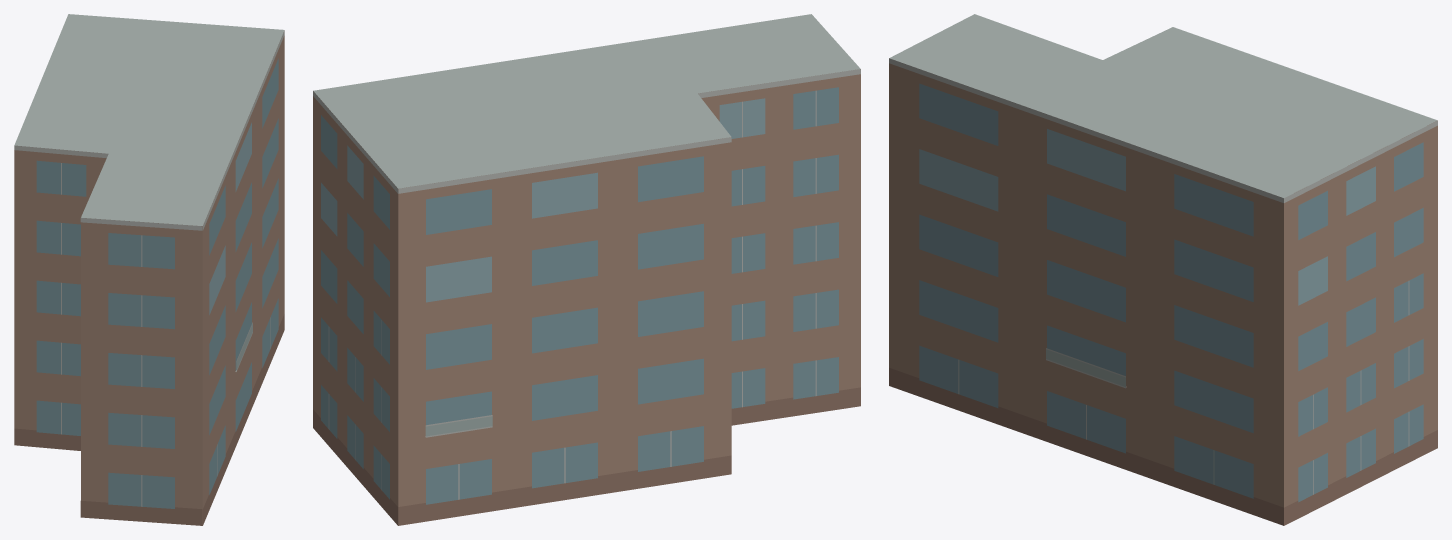
File: survey-upis-32684029.glb
3 views of the same model, side by side, from view 1: azimuth 30°, elevation 25°; view 2: azimuth 150°, elevation 25°; view 3: azimuth 270°, elevation 25° (orthographic). The views are drawn at different scales.
Visible parts, largest first — view 1: survey-upis-32684029.tmp; view 2: survey-upis-32684029.tmp; view 3: survey-upis-32684029.tmp.
Part boxes in pixels (x1,y1,x2,y2): survey-upis-32684029.tmp: [14, 14, 284, 525]; survey-upis-32684029.tmp: [313, 14, 860, 525]; survey-upis-32684029.tmp: [889, 14, 1437, 525].
Bounding box in the file's own units: 19.06 × 15.8 × 23.99.
